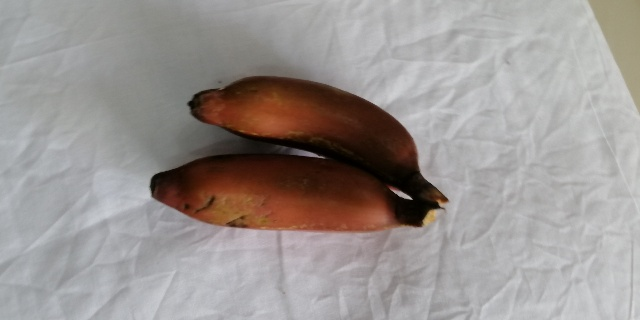banana_red: (187, 68, 448, 200), (149, 154, 444, 230)
